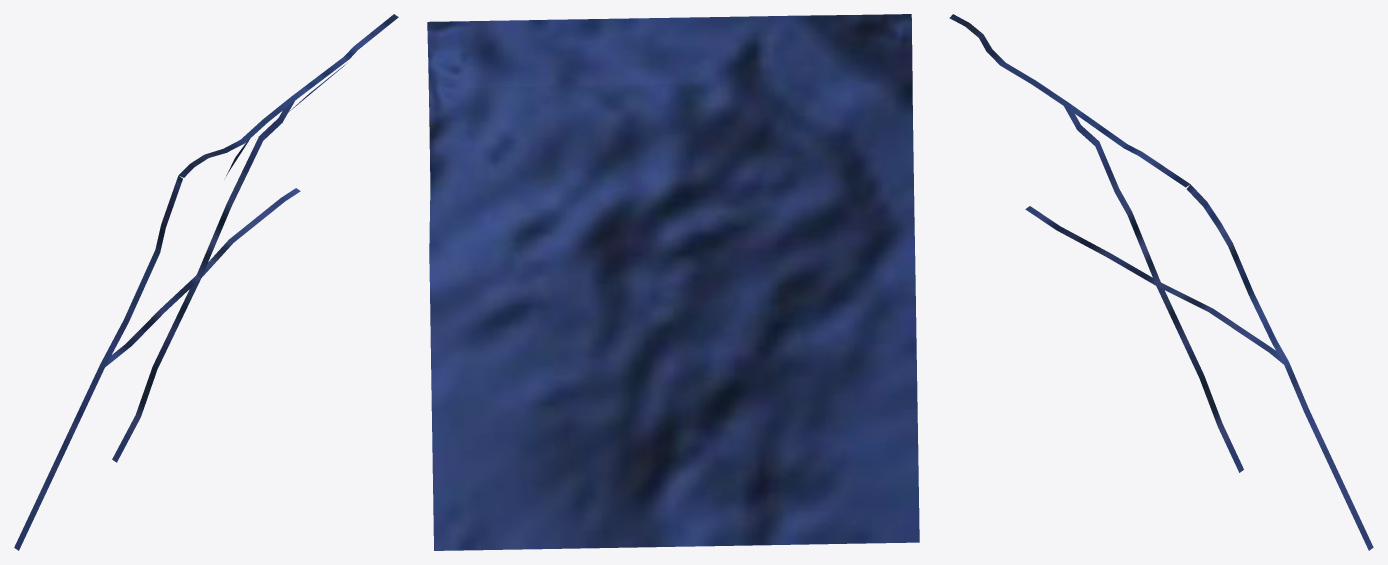
The picture shows the model from 3 angles, left to right: view 1: azimuth 30°, elevation 25°; view 2: azimuth 150°, elevation 25°; view 3: azimuth 270°, elevation 25°; orthographic projection. The views are drawn at different scales.
Bounding box in the file's own units: 19470 × 18264 × 16607.
1 material, 1 textured.
